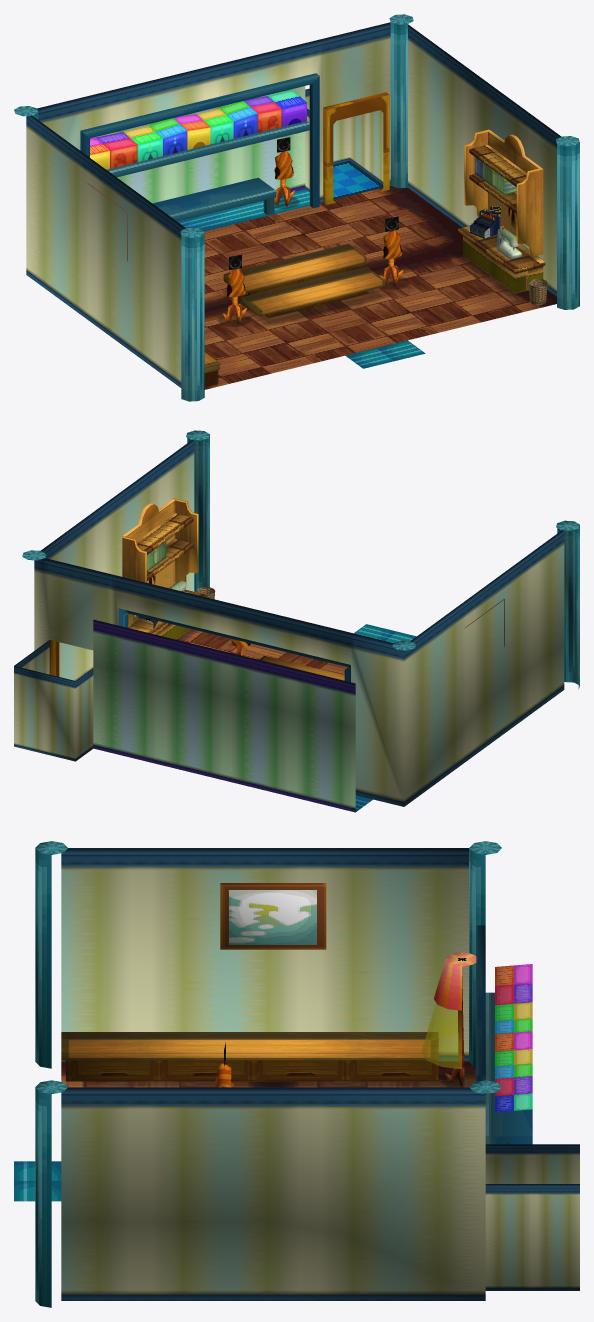
3 renders of one model, top to bottom at view 1: azimuth 30°, elevation 25°; view 2: azimuth 150°, elevation 25°; view 3: azimuth 270°, elevation 25°, orthographic. The views are drawn at different scales.
Parts seen in each view (by area): view 1: sh_r_cloth; view 2: sh_r_cloth; view 3: sh_r_cloth.
Boxes of the visible parts, box(x1,y1,x2,y2) form: sh_r_cloth: box(14, 14, 579, 401); sh_r_cloth: box(14, 430, 579, 812); sh_r_cloth: box(14, 841, 579, 1307).
Bounding box in the file's own units: 6.35 × 3 × 6.
Materials: 31 (31 with a texture image).
